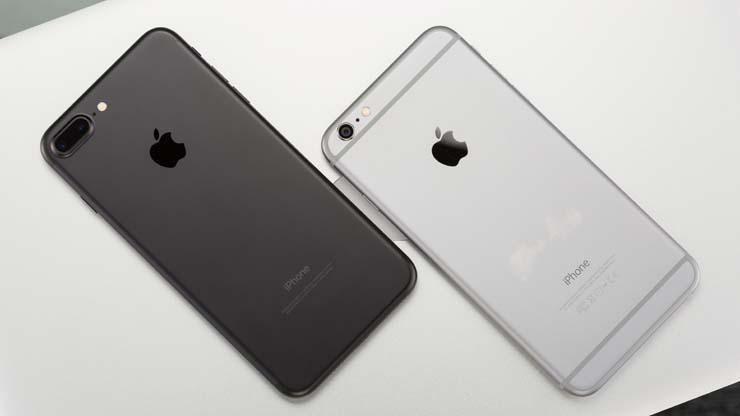apple: (426, 120, 487, 187), (137, 123, 204, 170)
